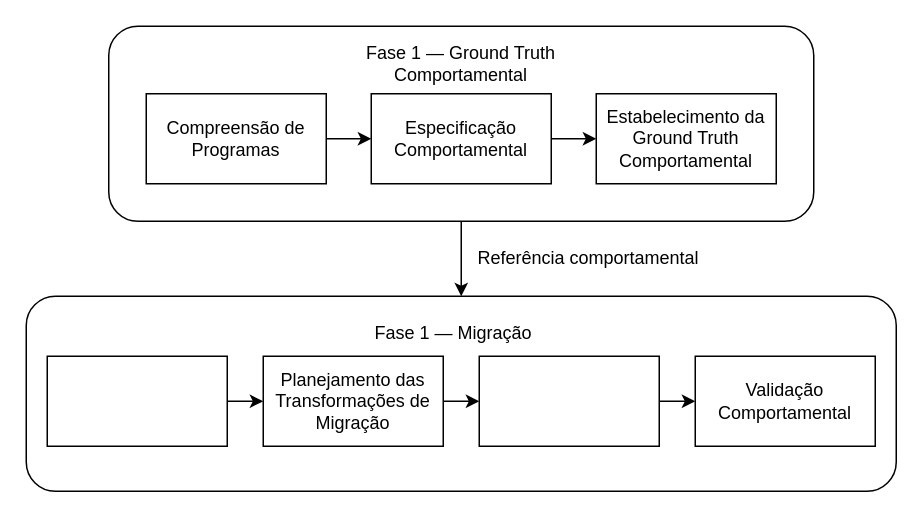
This 923x518 diagram has some shape labels left out. The centre of each missing label's shape, as x and y in pixels:
"Identificação das Realizações dos Comportamentos" goes at (136,400).
"Implementação no Ambiente de Destino" goes at (568,400).
